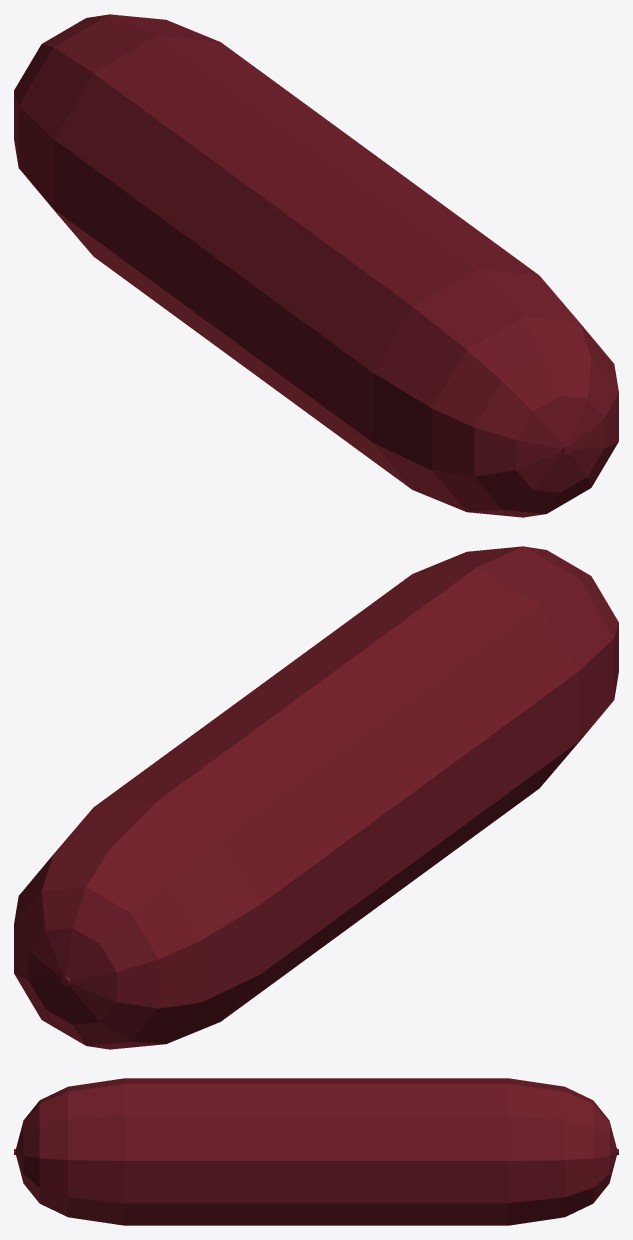
File: Sausage.fbx
3 renders of one model, top to bottom at view 1: azimuth 30°, elevation 25°; view 2: azimuth 150°, elevation 25°; view 3: azimuth 270°, elevation 25°, orthographic. The views are drawn at different scales.
Visible parts, largest first — view 1: Cylinder.002; view 2: Cylinder.002; view 3: Cylinder.002.
Part boxes in pixels (bbox=[...]): Cylinder.002: bbox=[14, 14, 618, 517]; Cylinder.002: bbox=[14, 546, 618, 1049]; Cylinder.002: bbox=[14, 1078, 618, 1225].
Size of the model in its own units: 29.07 by 30.56 by 123.
